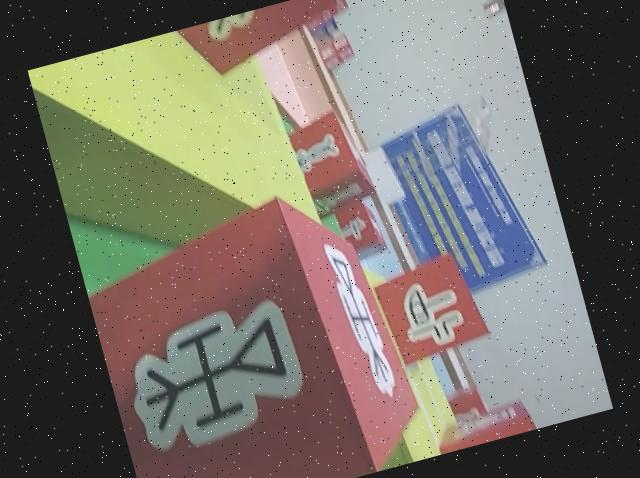R2 Real: (75, 173, 436, 478), (129, 0, 351, 99), (367, 243, 496, 372), (279, 102, 383, 223), (428, 389, 560, 456)
